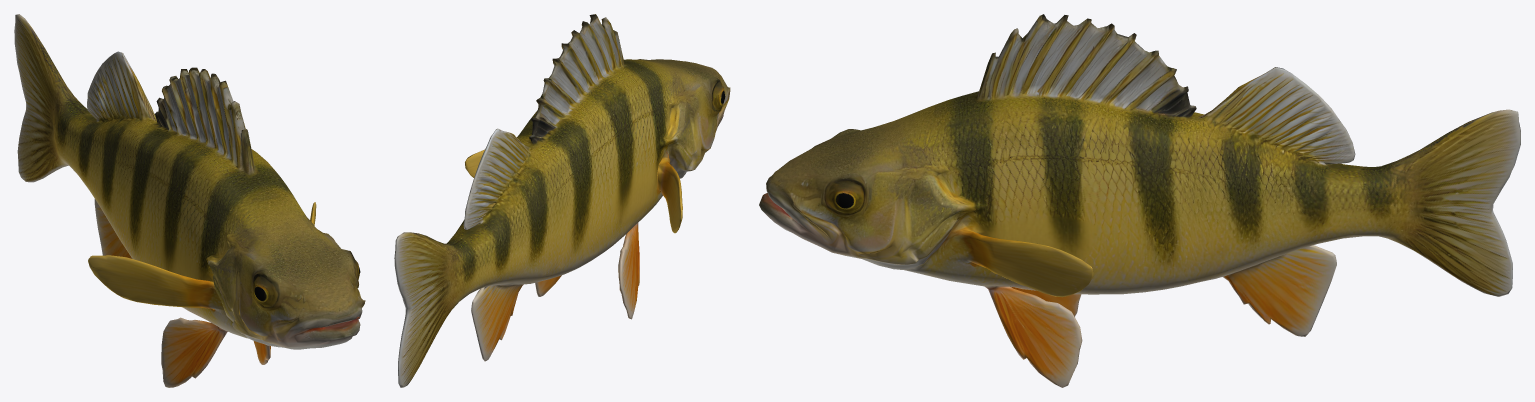
Rendered from fish-yellow-perch.glb.
3 views of the same model, side by side, from view 1: azimuth 30°, elevation 25°; view 2: azimuth 150°, elevation 25°; view 3: azimuth 270°, elevation 25° (orthographic). The views are drawn at different scales.
Parts seen in each view (by area): view 1: tripo_node_fa513e7b-5ec0-4e38-87f8-110d47f88745; view 2: tripo_node_fa513e7b-5ec0-4e38-87f8-110d47f88745; view 3: tripo_node_fa513e7b-5ec0-4e38-87f8-110d47f88745.
Part boxes in pixels (x1,y1,x2,y2): tripo_node_fa513e7b-5ec0-4e38-87f8-110d47f88745: (14,14,365,387); tripo_node_fa513e7b-5ec0-4e38-87f8-110d47f88745: (394,14,730,387); tripo_node_fa513e7b-5ec0-4e38-87f8-110d47f88745: (759,14,1520,387).
Bounding box in the file's own units: 0.2374 × 0.3 × 0.5998.
Materials: 1 (1 with a texture image).
